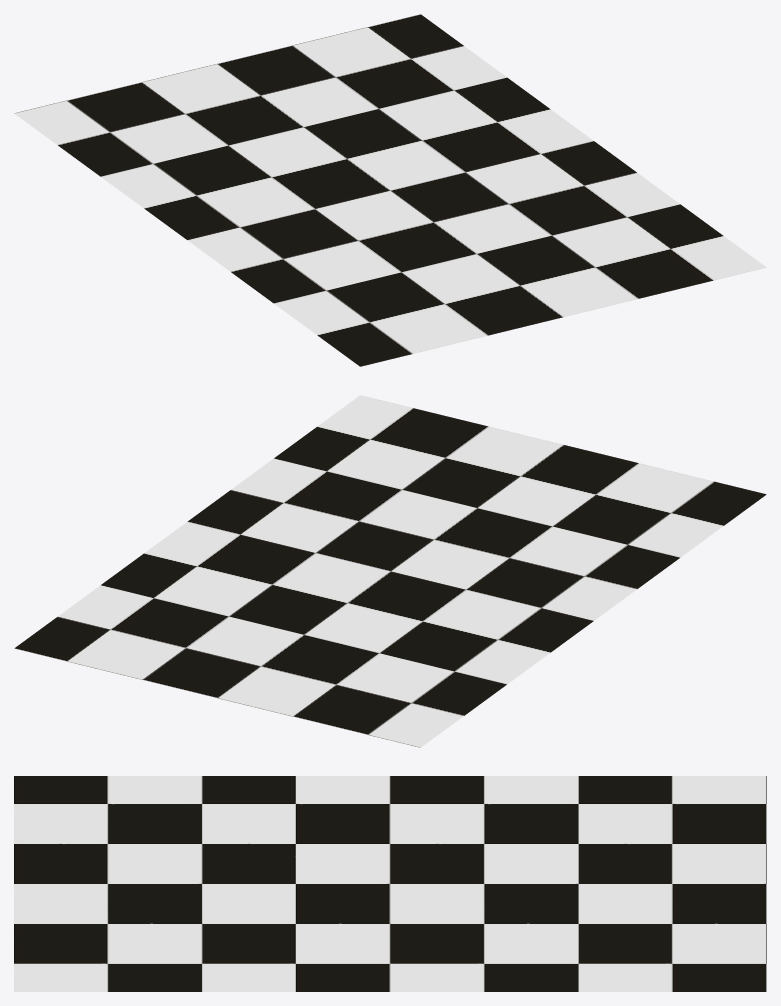
Rendered from goalFlag.FBX.
3 views of the same model, one above another, from view 1: azimuth 30°, elevation 25°; view 2: azimuth 150°, elevation 25°; view 3: azimuth 270°, elevation 25° (orthographic). The views are drawn at different scales.
Parts seen in each view (by area): view 1: goalflag; view 2: goalflag; view 3: goalflag.
Boxes of the visible parts, x1,y1,x2,y2 form: goalflag: [14, 14, 766, 366]; goalflag: [14, 395, 766, 747]; goalflag: [14, 776, 766, 991].
Size of the model in its own units: 30.8 by 2.78e-15 by 45.43.
